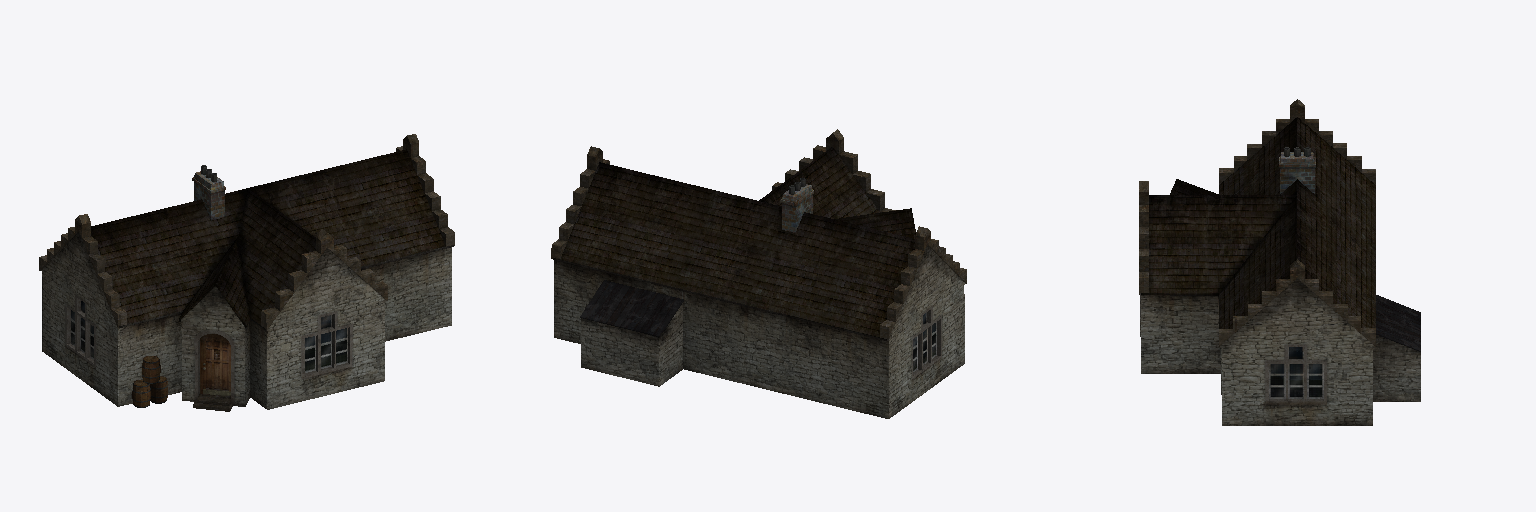
The picture shows the model from 3 angles: view 1: azimuth 30°, elevation 25°; view 2: azimuth 150°, elevation 25°; view 3: azimuth 270°, elevation 25°; orthographic projection.
Parts seen in each view (by area): view 1: House; view 2: House; view 3: House.
Part boxes in pixels (left/top/right/bottom): House: left=39, top=134, right=454, bottom=411; House: left=551, top=129, right=966, bottom=418; House: left=1139, top=99, right=1420, bottom=425.
Bounding box in the file's own units: 1232 × 621 × 894.
1 materials, 1 textured.